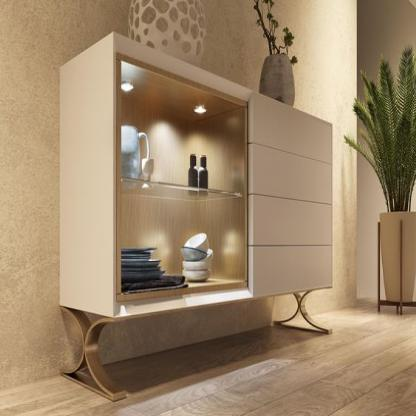Cupboard: (58, 34, 332, 398)
Wooden floor: (0, 304, 416, 416)
